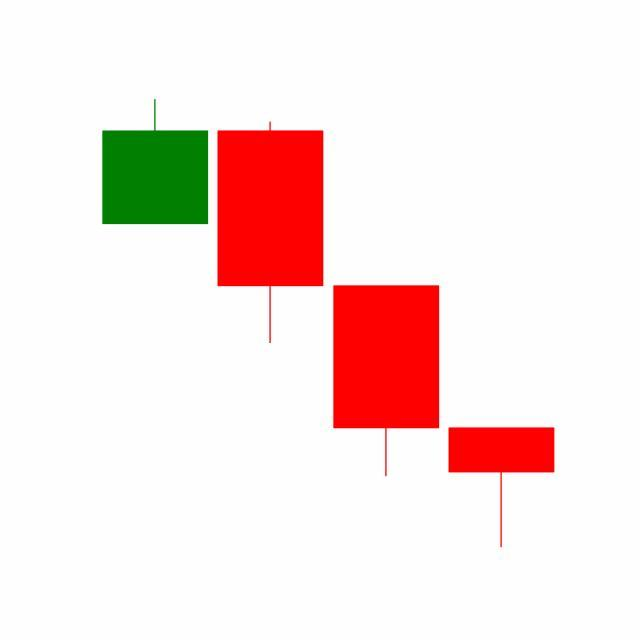Hammer: (444, 426, 560, 549)
